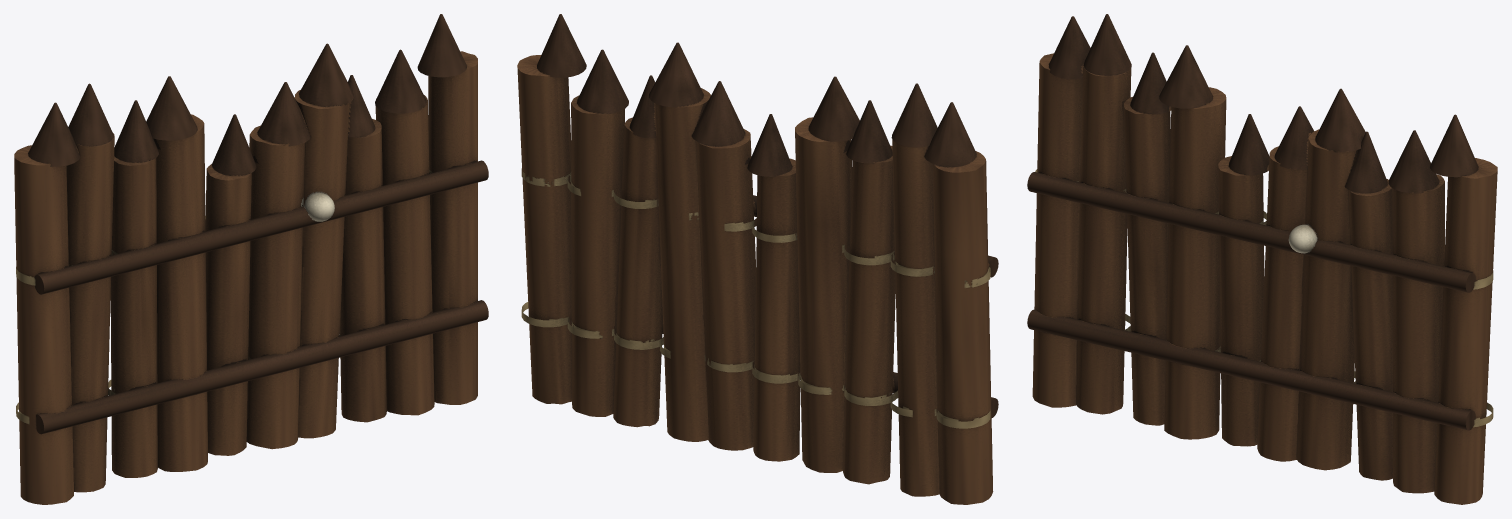
File: cenario_palicada_trecho.glb
3 views of the same model, side by side, from view 1: azimuth 30°, elevation 25°; view 2: azimuth 150°, elevation 25°; view 3: azimuth 330°, elevation 25° (orthographic). The views are drawn at different scales.
Visible parts, largest first — view 1: cenario_palicada_trecho; view 2: cenario_palicada_trecho; view 3: cenario_palicada_trecho.
Boxes of the visible parts, left/top/right/bottom form: cenario_palicada_trecho: left=14, top=14, right=488, bottom=504; cenario_palicada_trecho: left=517, top=14, right=998, bottom=504; cenario_palicada_trecho: left=1027, top=14, right=1497, bottom=504.
Bounding box in the file's own units: 4.13 × 3.42 × 0.6357.
1 material, 1 textured.
